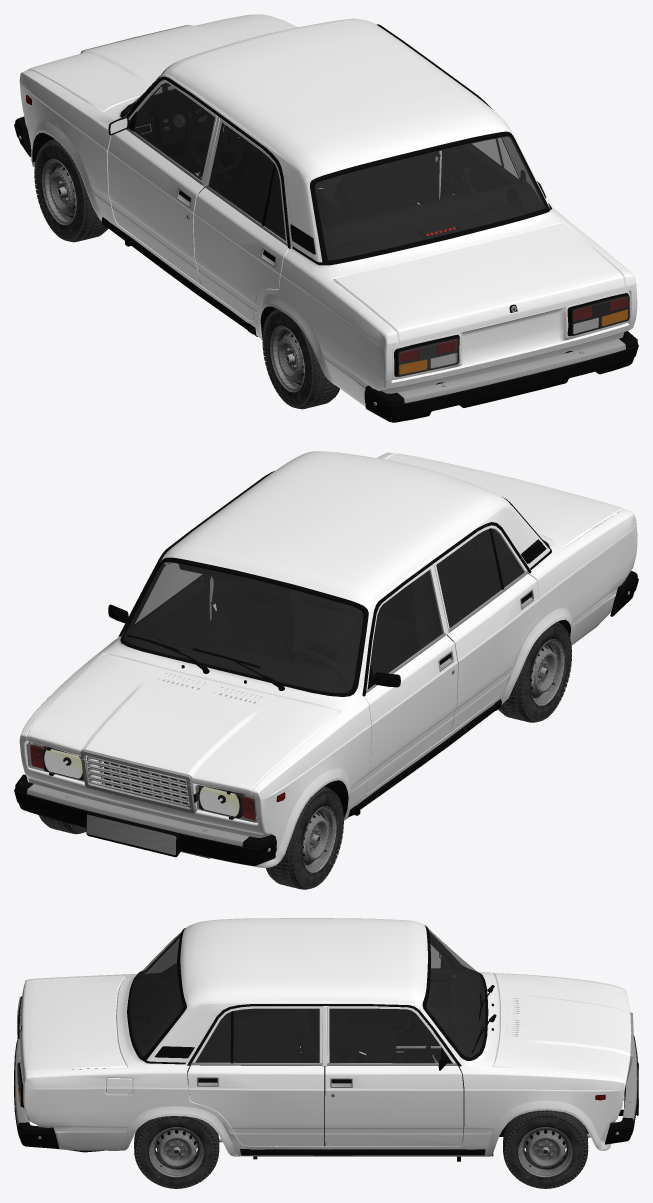
File: vaz.glb
3 views of the same model, one above another, from view 1: azimuth 30°, elevation 25°; view 2: azimuth 150°, elevation 25°; view 3: azimuth 270°, elevation 25° (orthographic). The views are drawn at different scales.
Parts seen in each view (by area): view 1: base_BaseColorCuzov_0, base_plastik_0, bag_BaseColorCuzov_0, WinZ_steclo_0, kapot_BaseColorCuzov_0, DverP001_BaseColorCuzov_0, DverP002_BaseColorCuzov_0, ZBamp_plastik_0, DverP002_steclo_0, Wheel L Z_Wheel_0, DverP001_steclo_0, Wheel L P_Wheel_0 (+6 smaller); view 2: base_BaseColorCuzov_0, base_plastik_0, kapot_BaseColorCuzov_0, WinP_steclo_0, DverP001_BaseColorCuzov_0, DverP002_BaseColorCuzov_0, bag_BaseColorCuzov_0, DverP002_steclo_0, Wheel L P_Wheel_0, DverP001_steclo_0, Wheel L Z_Wheel_0, PBamp_plastik_0 (+11 smaller); view 3: base_BaseColorCuzov_0, base_plastik_0, kapot_BaseColorCuzov_0, DverP_BaseColorCuzov_0.001, DverP_BaseColorCuzov_0, bag_BaseColorCuzov_0, DverP_steclo_0, Wheel P P_Wheel_0, DverP_steclo_0.001, Wheel P Z_Wheel_0, WinP_steclo_0, WinZ_steclo_0 (+12 smaller).
Boxes of the visible parts, x1,y1,x2,y2 form: base_BaseColorCuzov_0: [19, 14, 637, 406]; base_plastik_0: [26, 24, 629, 384]; bag_BaseColorCuzov_0: [333, 223, 625, 346]; WinZ_steclo_0: [315, 136, 545, 260]; kapot_BaseColorCuzov_0: [27, 14, 292, 112]; DverP001_BaseColorCuzov_0: [107, 79, 217, 284]; DverP002_BaseColorCuzov_0: [193, 118, 288, 320]; ZBamp_plastik_0: [364, 331, 638, 422]; DverP002_steclo_0: [209, 123, 285, 240]; Wheel L Z_Wheel_0: [262, 308, 339, 409]; DverP001_steclo_0: [134, 83, 214, 180]; Wheel L P_Wheel_0: [34, 139, 108, 242]; base_BaseColorCuzov_0: [19, 451, 637, 867]; base_plastik_0: [40, 471, 618, 858]; kapot_BaseColorCuzov_0: [27, 654, 340, 795]; WinP_steclo_0: [124, 562, 363, 692]; DverP001_BaseColorCuzov_0: [364, 566, 457, 793]; DverP002_BaseColorCuzov_0: [434, 525, 539, 732]; bag_BaseColorCuzov_0: [385, 453, 623, 547]; DverP002_steclo_0: [436, 529, 523, 627]; Wheel L P_Wheel_0: [266, 786, 343, 889]; DverP001_steclo_0: [370, 571, 442, 675]; Wheel L Z_Wheel_0: [498, 621, 571, 722]; PBamp_plastik_0: [14, 774, 276, 865]; base_BaseColorCuzov_0: [19, 918, 626, 1156]; base_plastik_0: [18, 934, 628, 1161]; kapot_BaseColorCuzov_0: [493, 973, 631, 1083]; DverP_BaseColorCuzov_0.001: [325, 1006, 463, 1146]; DverP_BaseColorCuzov_0: [188, 1006, 324, 1146]; bag_BaseColorCuzov_0: [19, 976, 126, 1081]; DverP_steclo_0: [196, 1009, 319, 1062]; Wheel P P_Wheel_0: [503, 1110, 588, 1188]; DverP_steclo_0.001: [330, 1009, 440, 1062]; Wheel P Z_Wheel_0: [134, 1116, 219, 1188]; WinP_steclo_0: [426, 929, 484, 1057]; WinZ_steclo_0: [130, 931, 182, 1056].
Bounding box in the file's own units: 1.99 × 1.54 × 4.56.
16 materials, 2 textured.
